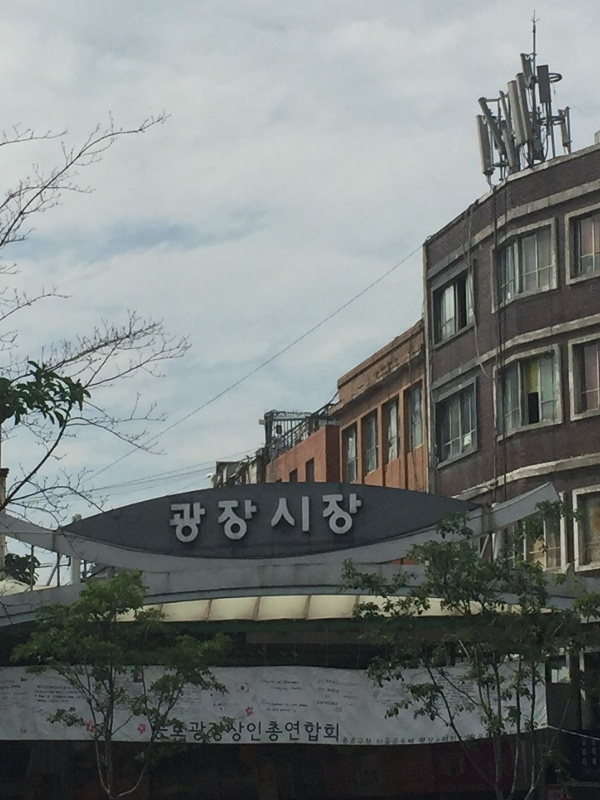text: (177, 490, 192, 544), (193, 490, 208, 544), (209, 490, 224, 544), (225, 490, 240, 544), (241, 490, 256, 544), (257, 490, 272, 544), (273, 490, 288, 544), (289, 490, 304, 544), (305, 490, 320, 544), (321, 490, 336, 544), (337, 490, 352, 544), (433, 670, 448, 712), (449, 670, 464, 712), (273, 675, 288, 716), (289, 675, 304, 716), (353, 490, 364, 544), (258, 675, 272, 716), (97, 678, 112, 716), (113, 678, 128, 716), (177, 680, 192, 718), (129, 678, 143, 716), (167, 490, 176, 544), (1, 680, 16, 712), (465, 670, 476, 712), (321, 679, 336, 709), (337, 679, 352, 709), (193, 680, 203, 718), (49, 681, 64, 706), (65, 681, 80, 706), (209, 720, 225, 742), (17, 680, 28, 712), (161, 719, 176, 741), (35, 681, 48, 706), (241, 721, 256, 742), (257, 721, 272, 742), (273, 721, 288, 742), (289, 721, 304, 742), (305, 721, 320, 742), (321, 721, 336, 742), (193, 721, 207, 741), (227, 721, 240, 742), (169, 680, 176, 718), (353, 679, 361, 709), (150, 719, 160, 741), (177, 719, 187, 741), (305, 675, 310, 716), (93, 678, 96, 716), (81, 681, 85, 706), (317, 679, 320, 709), (430, 670, 432, 712), (189, 721, 192, 741), (337, 721, 339, 742)
